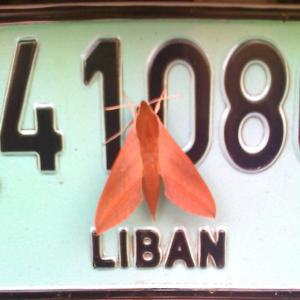Vehicle-registration-plate: (1, 20, 300, 292)
